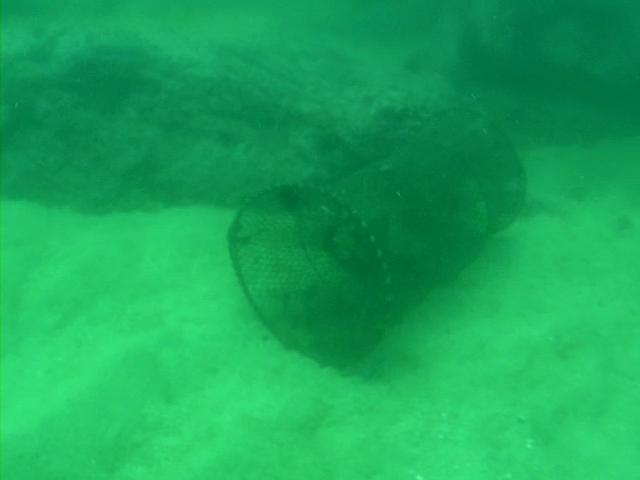spring fish trap: (230, 107, 527, 368)
